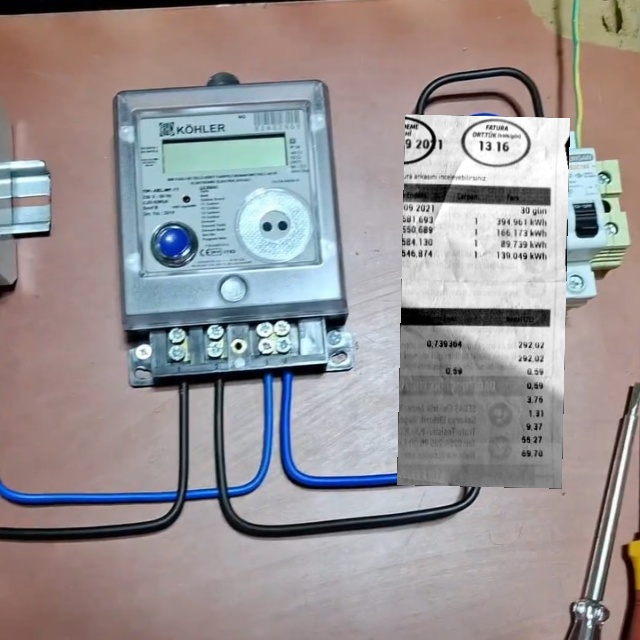electricity-bill: (396, 114, 569, 489)
